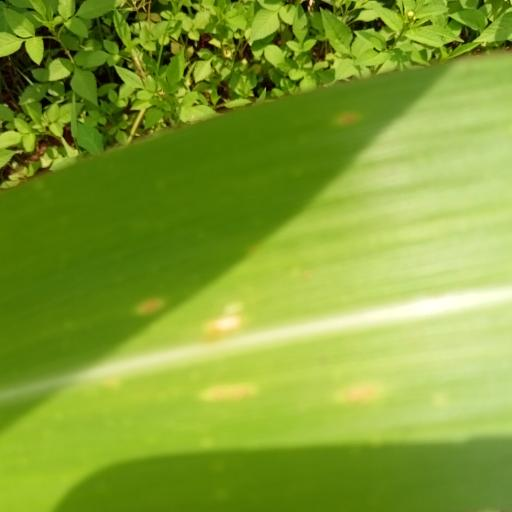Corn_Brown_Spots: (18, 61, 512, 498)
